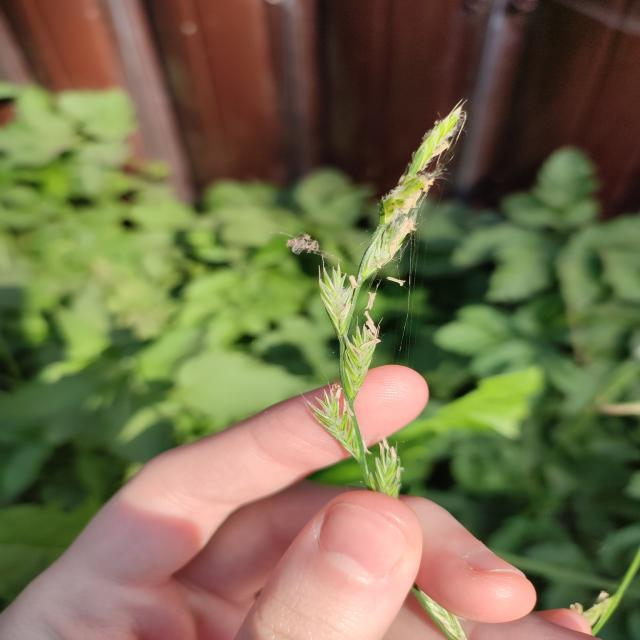Lolium: (280, 97, 477, 638)
